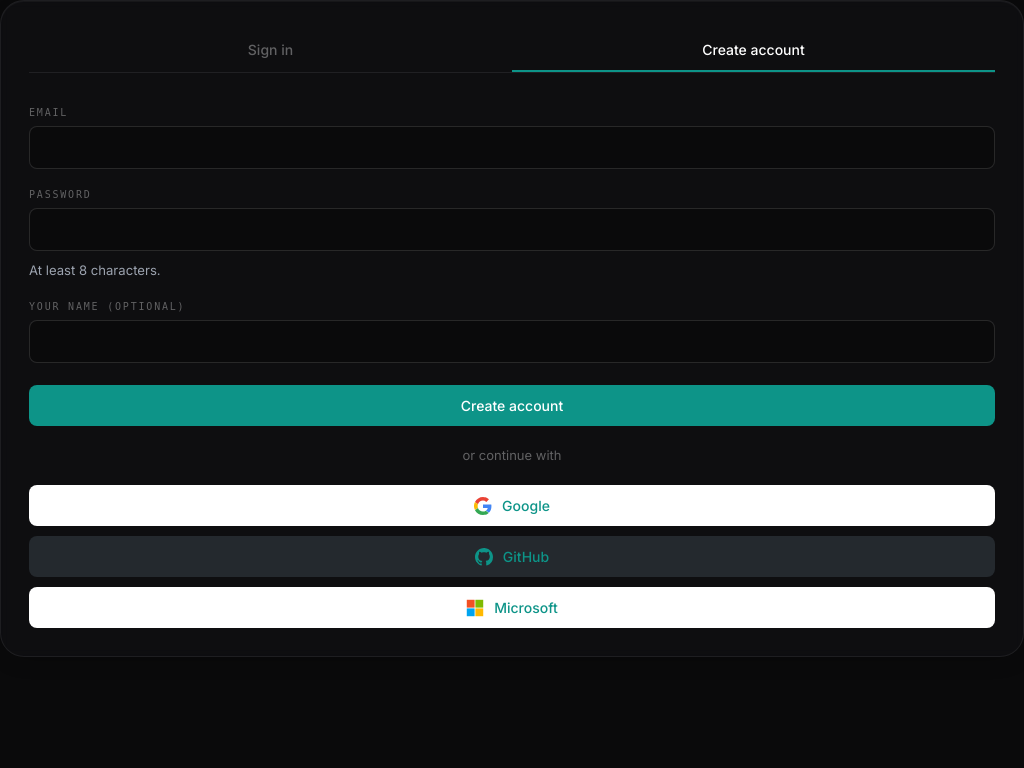
Test: AuthForm › shows name field only in register mode
Expected: the field labelled "Your name (optional)" is shown, x1=29 y1=320 x2=995 y2=363
Step 1. Click the tab "Sign in" → (270, 50), box x1=29 y1=29 x2=512 y2=72
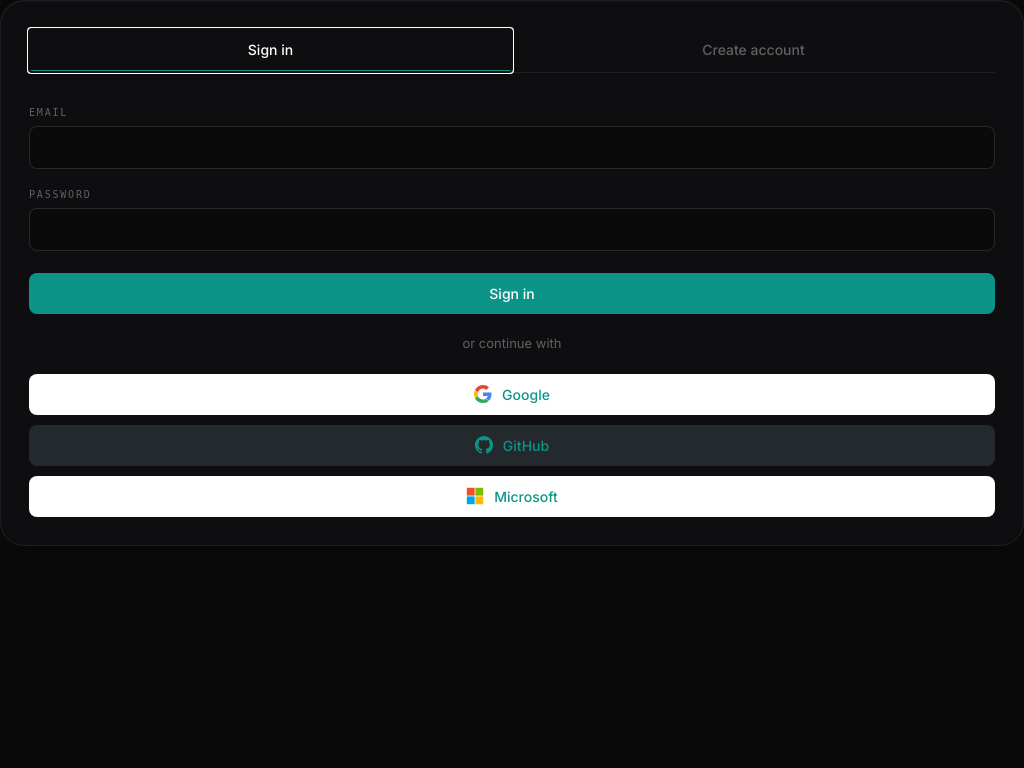
Now the label labelled "Your name" is gone
